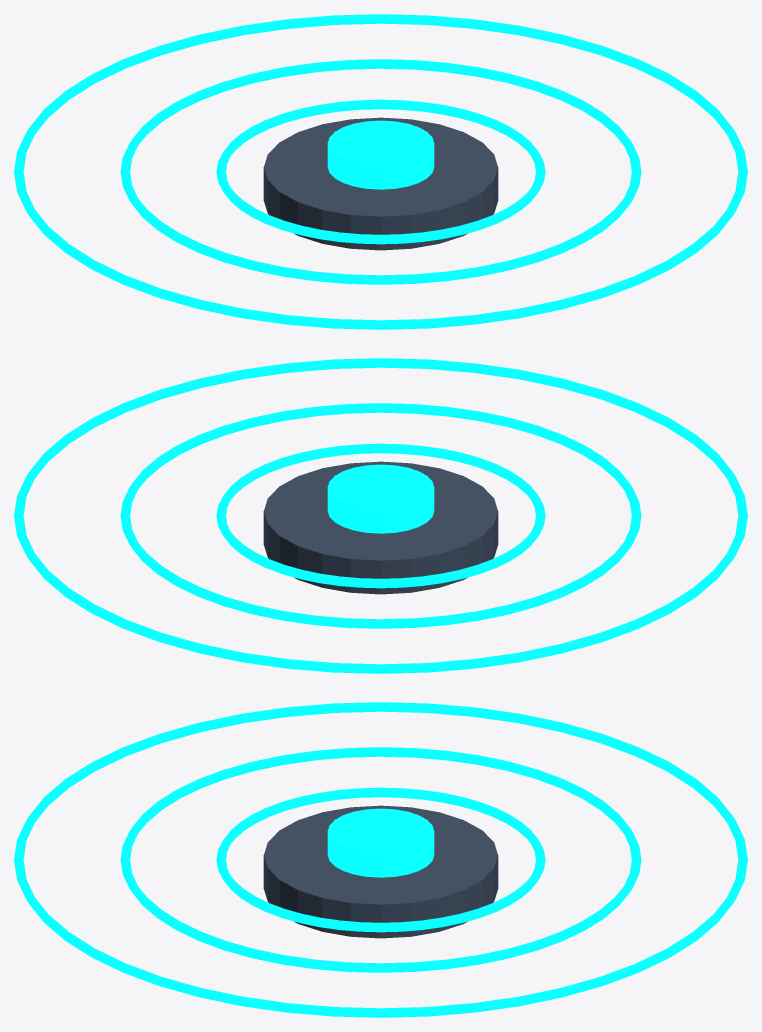
Rendered from GravityWell.fbx.
3 views of the same model, one above another, from view 1: azimuth 30°, elevation 25°; view 2: azimuth 150°, elevation 25°; view 3: azimuth 270°, elevation 25° (orthographic).
Visible parts, largest first — view 1: Gravity generator, Field ring.002, Field ring.001, Field ring, Gravity lens; view 2: Gravity generator, Field ring.002, Field ring.001, Field ring, Gravity lens; view 3: Gravity generator, Field ring.002, Field ring.001, Field ring, Gravity lens.
Boxes of the visible parts, x1,y1,x2,y2 form: Gravity generator: (263, 117, 498, 250); Field ring.002: (14, 14, 747, 329); Field ring.001: (120, 59, 641, 284); Field ring: (216, 99, 545, 244); Gravity lens: (327, 120, 434, 189); Gravity generator: (263, 461, 498, 594); Field ring.002: (14, 358, 747, 673); Field ring.001: (120, 403, 641, 628); Field ring: (216, 443, 545, 588); Gravity lens: (327, 464, 434, 533); Gravity generator: (263, 805, 498, 938); Field ring.002: (14, 702, 747, 1017); Field ring.001: (120, 747, 641, 972); Field ring: (216, 787, 545, 932); Gravity lens: (327, 808, 434, 877).
Bounding box in the file's own units: 138 × 12 × 138.
